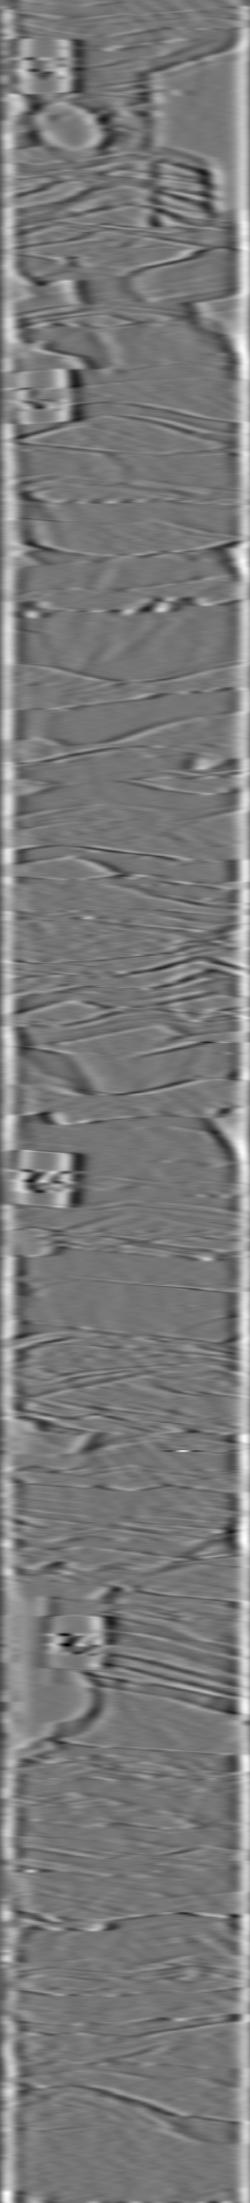hplug: (32, 93, 119, 170), (53, 1668, 110, 1744)
vplug: (138, 53, 235, 228)
